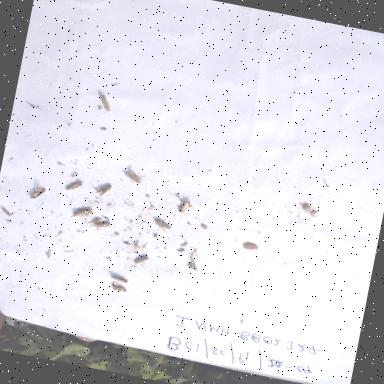pbw: (86, 90, 117, 116), (24, 179, 51, 203), (118, 166, 146, 188), (86, 216, 116, 236), (60, 174, 84, 196), (68, 204, 95, 223), (130, 250, 154, 270), (88, 180, 112, 200), (105, 272, 136, 287), (149, 217, 175, 233), (106, 280, 132, 295), (175, 197, 192, 216)
